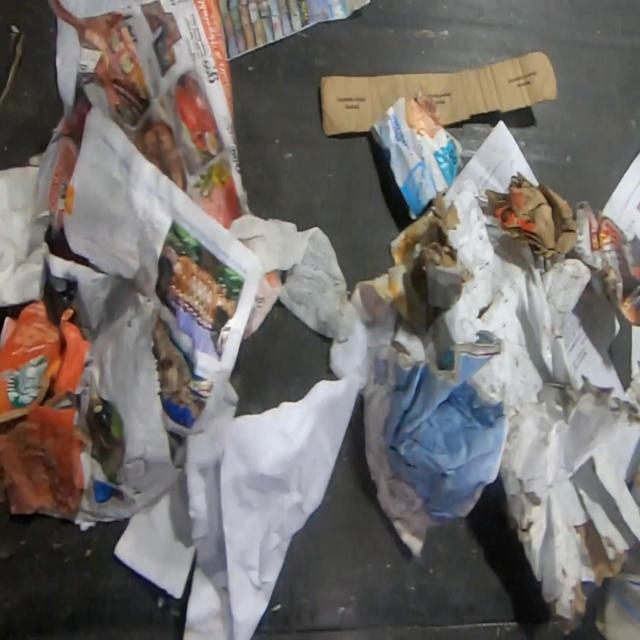cardboard: (318, 49, 560, 137), (0, 299, 94, 517), (369, 189, 476, 337), (486, 171, 578, 261)
